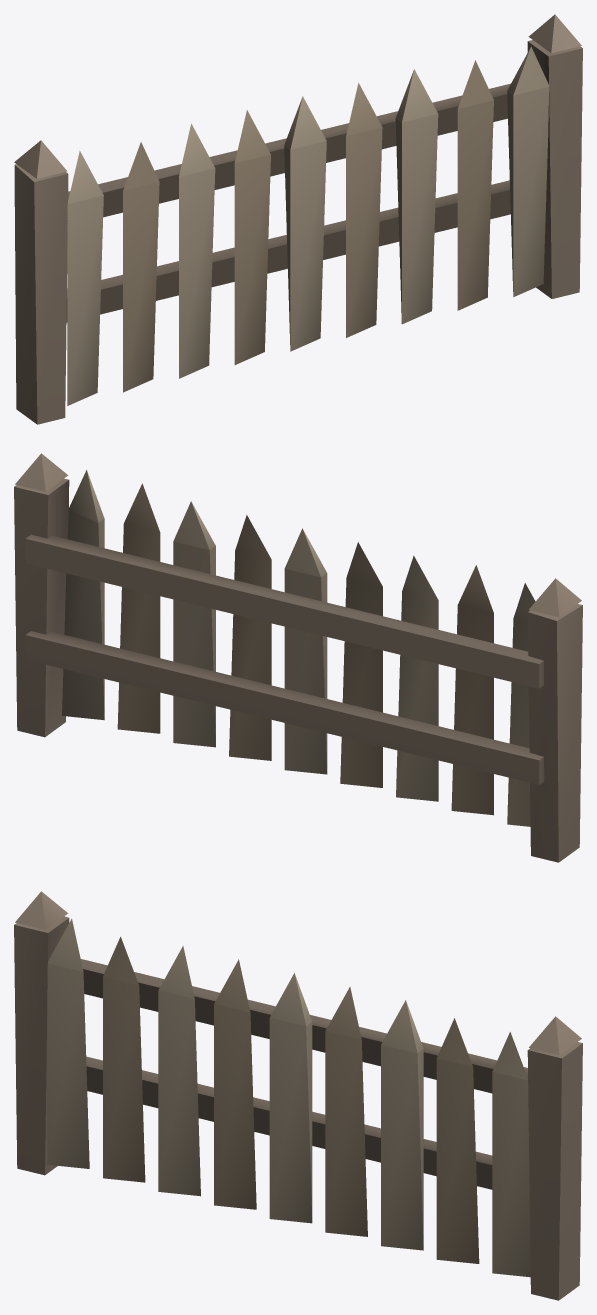
The model's file is fence.lod2.glb.
The picture shows the model from 3 angles, top to bottom: view 1: azimuth 30°, elevation 25°; view 2: azimuth 150°, elevation 25°; view 3: azimuth 330°, elevation 25°; orthographic projection.
Bounding box in the file's own units: 2.56 × 1.22 × 0.222.
